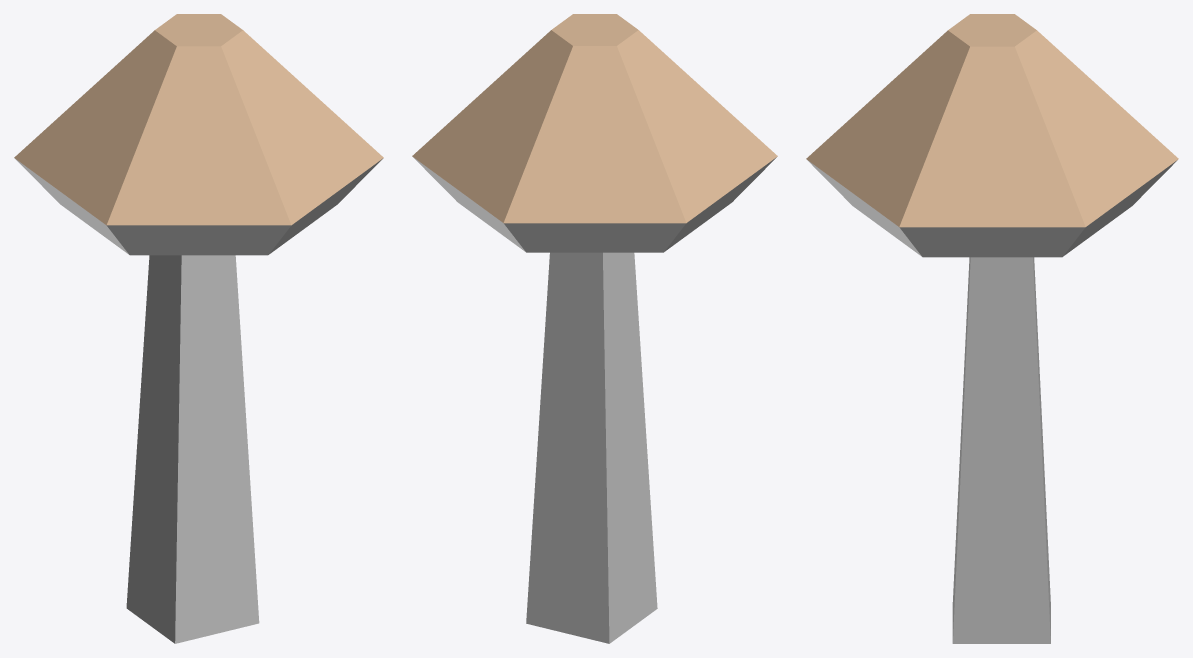
File: mushroom_tanTall.glb
3 views of the same model, side by side, from view 1: azimuth 30°, elevation 25°; view 2: azimuth 150°, elevation 25°; view 3: azimuth 270°, elevation 25° (orthographic).
Visible parts, largest first — view 1: mushroom_tanTall; view 2: mushroom_tanTall; view 3: mushroom_tanTall.
Boxes of the visible parts, box(x1,y1,x2,y2) form: mushroom_tanTall: box(14, 14, 383, 643); mushroom_tanTall: box(412, 14, 777, 643); mushroom_tanTall: box(806, 14, 1178, 643).
Size of the model in its own units: 0.1235 by 0.2505 by 0.1426.
